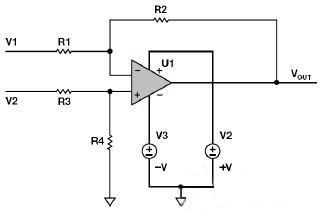amplifier: (125, 56, 177, 107)
power1: (204, 142, 222, 161), (141, 142, 158, 159)
res2: (53, 85, 74, 96), (53, 46, 75, 56), (151, 15, 171, 25), (106, 131, 114, 154)
